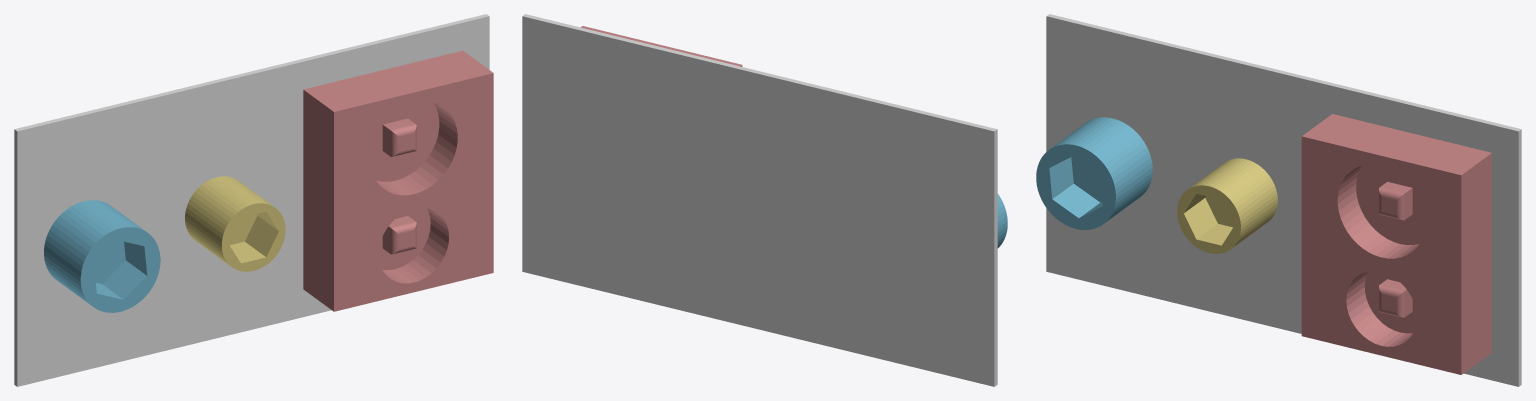
The model's file is pickup_layout.glb.
3 renders of one model, left to right at view 1: azimuth 30°, elevation 25°; view 2: azimuth 150°, elevation 25°; view 3: azimuth 330°, elevation 25°, orthographic.
Visible parts, largest first — view 1: world, 0.obj, 2.obj, 1.obj; view 2: world, 0.obj, 2.obj; view 3: world, 0.obj, 2.obj, 1.obj.
Part boxes in pixels (x1,y1,x2,y2): world: (14,14,489,386); 0.obj: (303,50,493,311); 2.obj: (44,200,160,312); 1.obj: (185,176,285,271); world: (522,14,997,386); 0.obj: (580,26,742,66); 2.obj: (997,193,1007,248); world: (1046,14,1521,386); 0.obj: (1301,114,1491,374); 2.obj: (1036,117,1152,229); 1.obj: (1177,158,1277,253).
Size of the model in its own units: 17.75 by 9.18 by 2.6.
